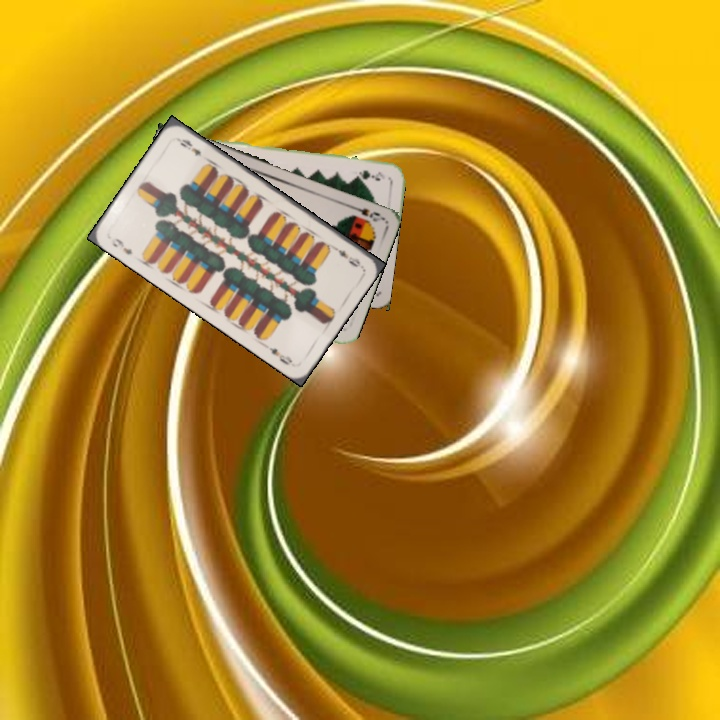E9: (328, 242, 363, 270), (107, 234, 135, 257)
G9: (353, 166, 387, 182)
SO: (346, 201, 385, 225)
